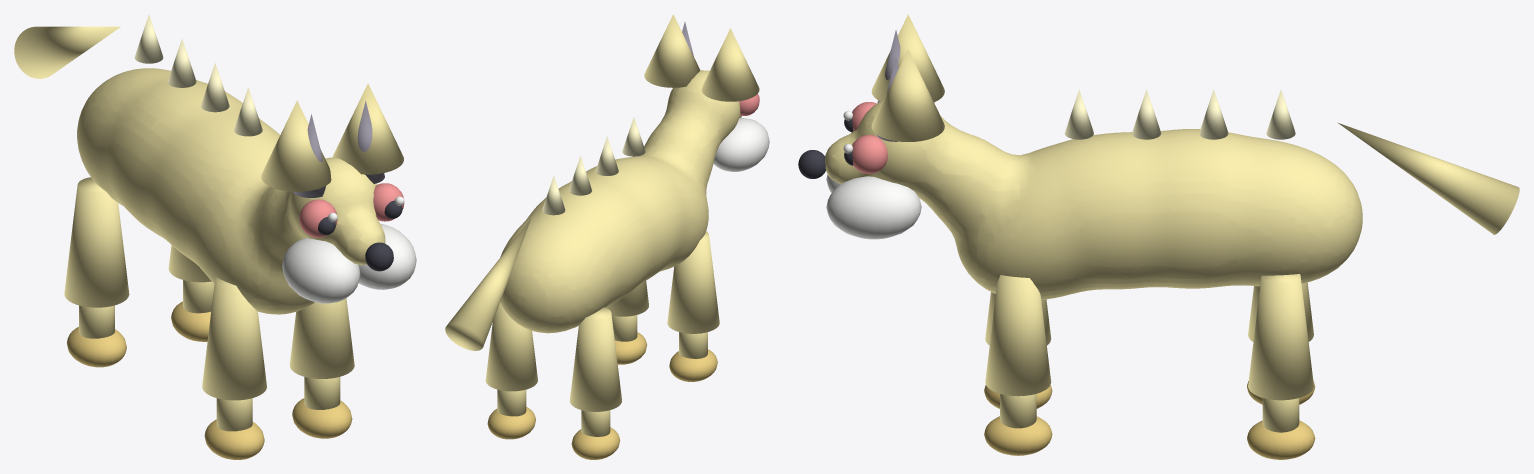
Rendered from Kirin.fbx.
The picture shows the model from 3 angles, left to right: view 1: azimuth 30°, elevation 25°; view 2: azimuth 150°, elevation 25°; view 3: azimuth 270°, elevation 25°; orthographic projection. The views are drawn at different scales.
Visible parts, largest first — view 1: Kirin; view 2: Kirin; view 3: Kirin.
Boxes of the visible parts, x1,y1,x2,y2 form: Kirin: (14, 14, 416, 459); Kirin: (445, 14, 769, 459); Kirin: (798, 14, 1519, 459).
Size of the model in its own units: 154 by 360 by 590.
